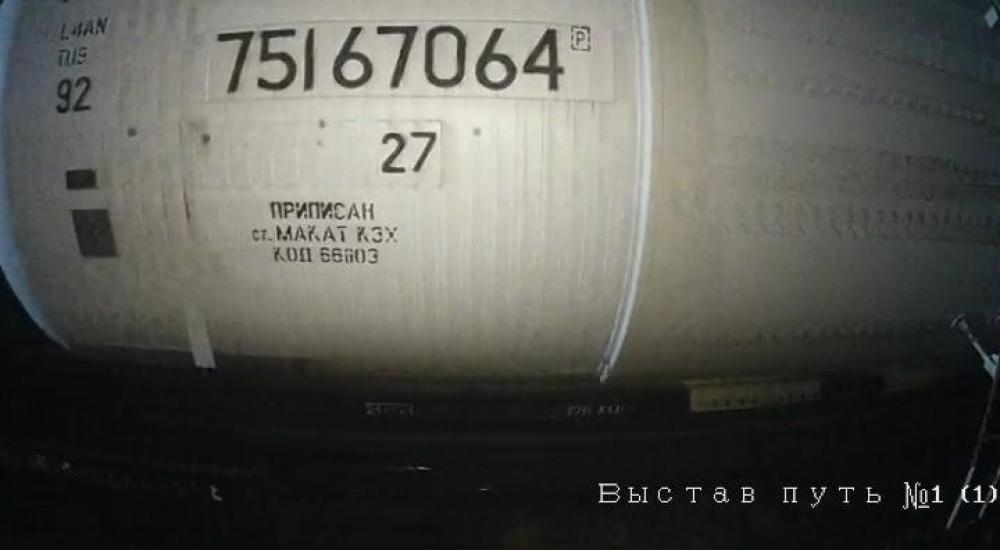Wagon-number: (215, 21, 567, 96)
